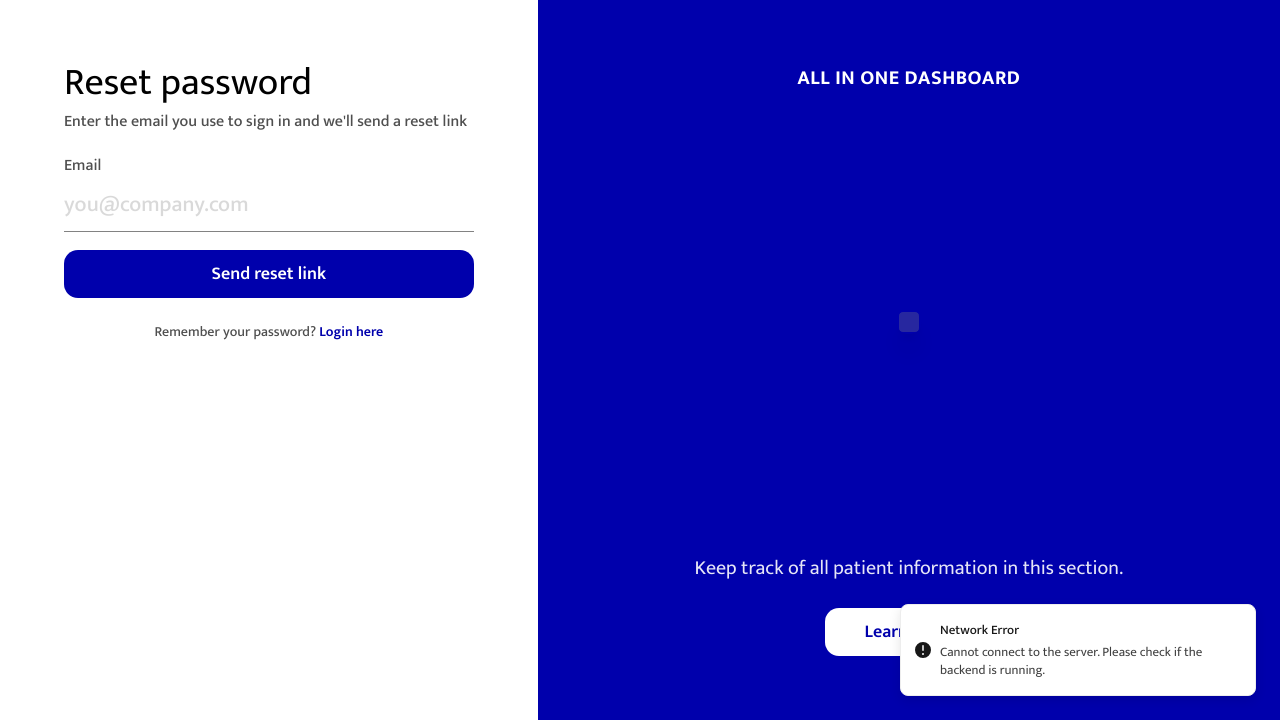
Forgot Password Page › should show validation error for empty email
Click the submit button. click: (269, 274)
box: [64,250,474,298]
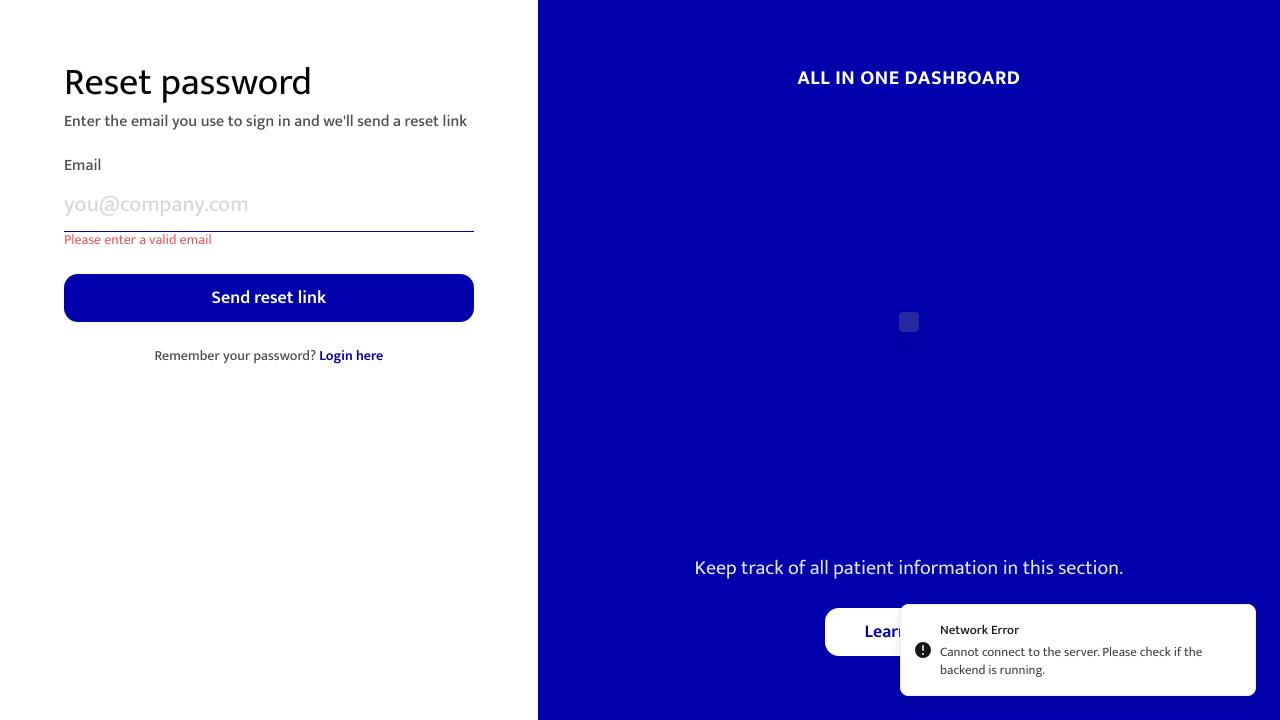
Expected: the text "Please enter a valid email" is shown, [64,228,212,251]
